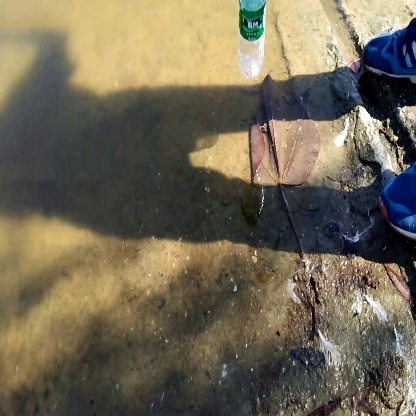leaf: (241, 70, 328, 258)
